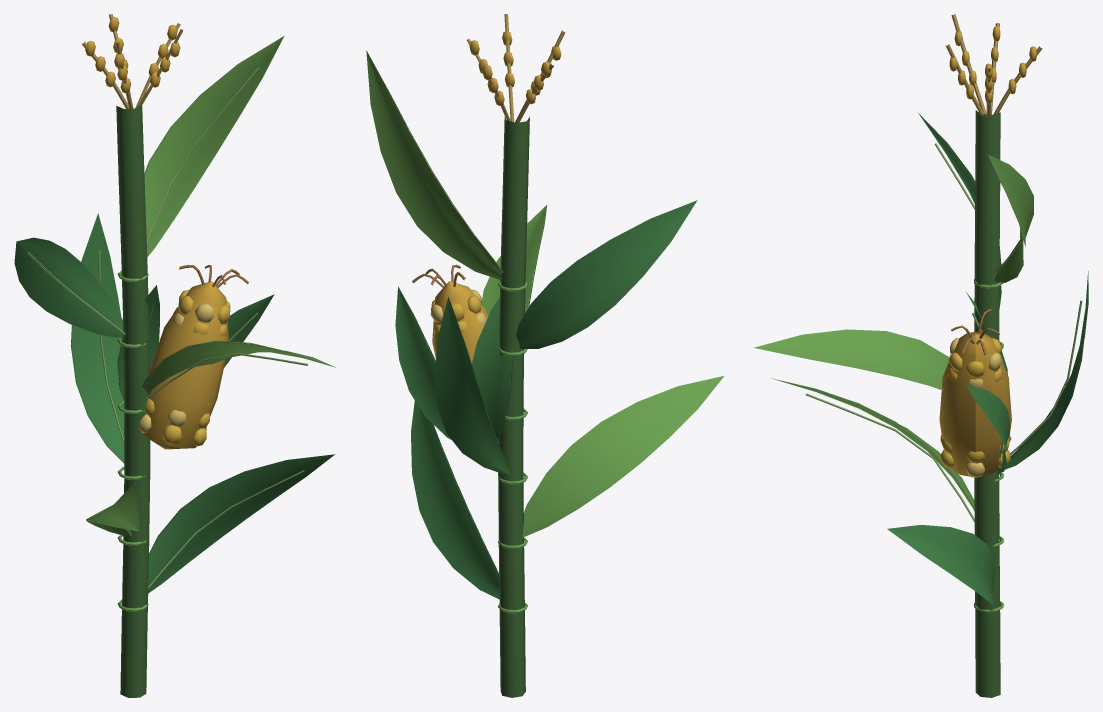
The model's file is maiz_3.glb.
3 renders of one model, left to right at view 1: azimuth 30°, elevation 25°; view 2: azimuth 150°, elevation 25°; view 3: azimuth 270°, elevation 25°, orthographic. The views are drawn at different scales.
Parts seen in each view (by area): view 1: maiz_3_caña_0; view 2: maiz_3_caña_0; view 3: maiz_3_caña_0.
Part boxes in pixels (<box>): maiz_3_caña_0: <box>14,14,335,697</box>; maiz_3_caña_0: <box>366,14,723,697</box>; maiz_3_caña_0: <box>753,14,1088,697</box>.
Size of the model in its own units: 0.6572 by 1.39 by 0.6388.
